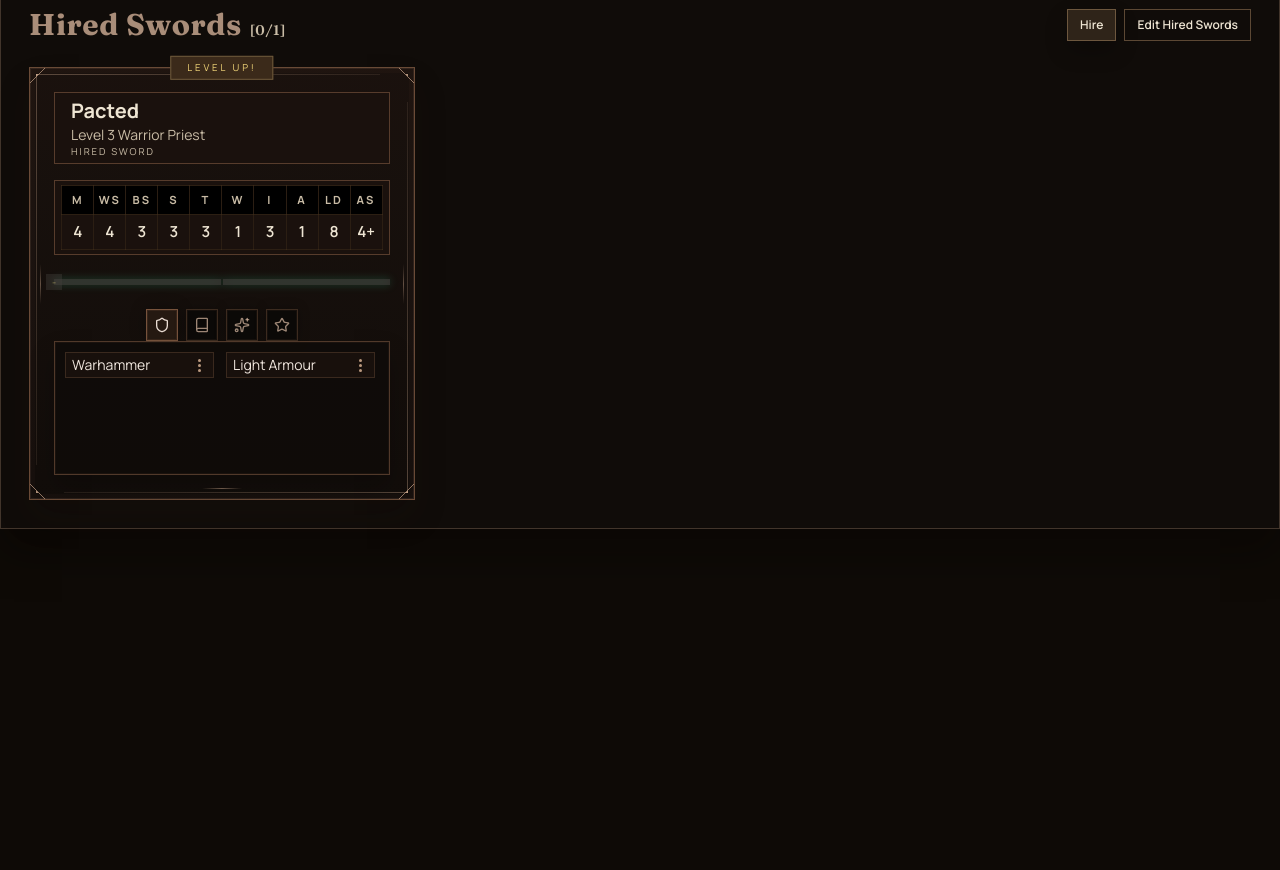
UnitSection: hired swords create and save › leaves Add hired sword quiet below the cap when the others are blood-pacted
Click the button "Edit Hired Swords".
click(1188, 25)  # box [1124,9,1251,41]
(page scrolled)
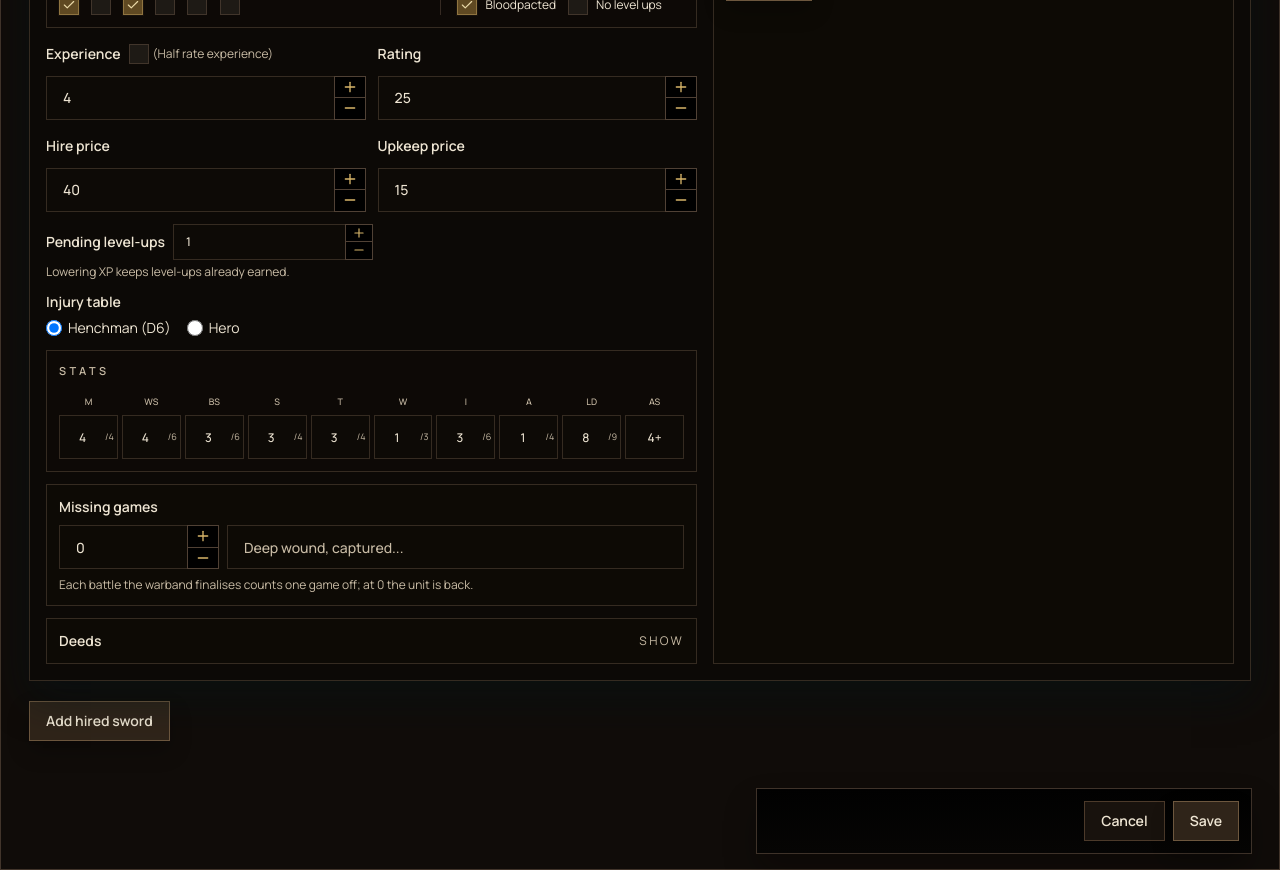
Check: the button "Add hired sword" is enabled, box [29,701,170,741]
